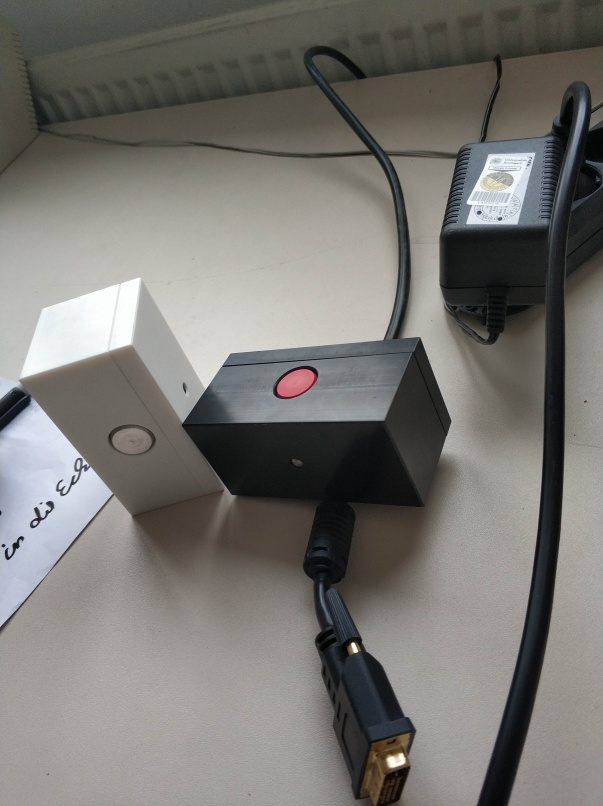black+black+red: (177, 334, 455, 514)
white+white+silver: (16, 275, 226, 519)
